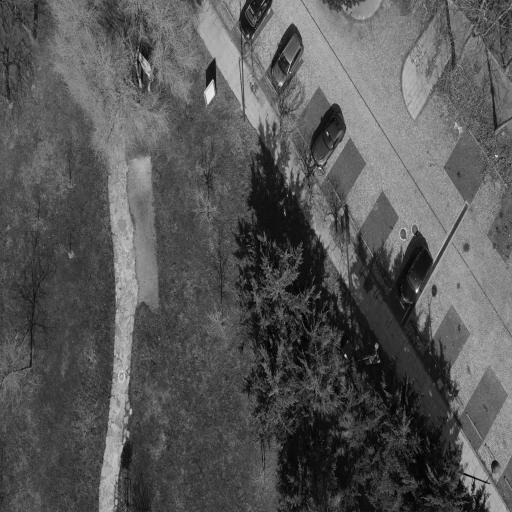person: (400, 247, 433, 305), (312, 112, 346, 167), (272, 32, 304, 88), (239, 0, 272, 41)
